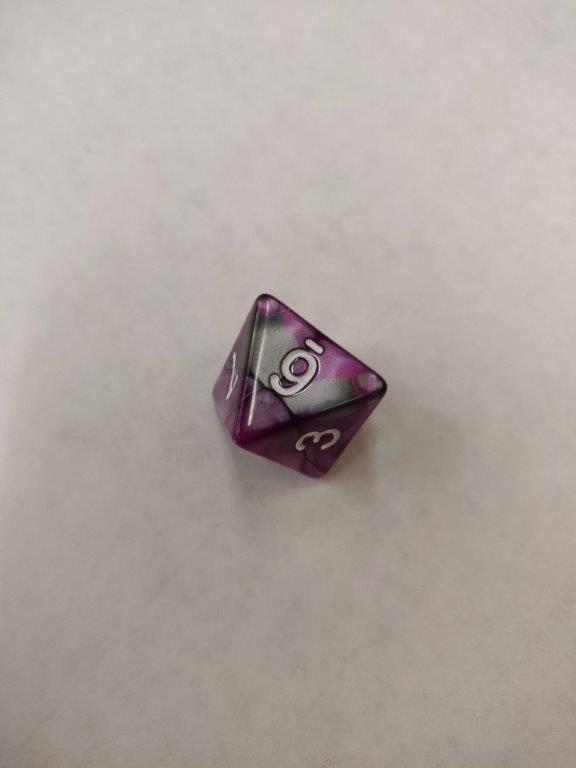d8-6: (212, 295, 388, 481)
